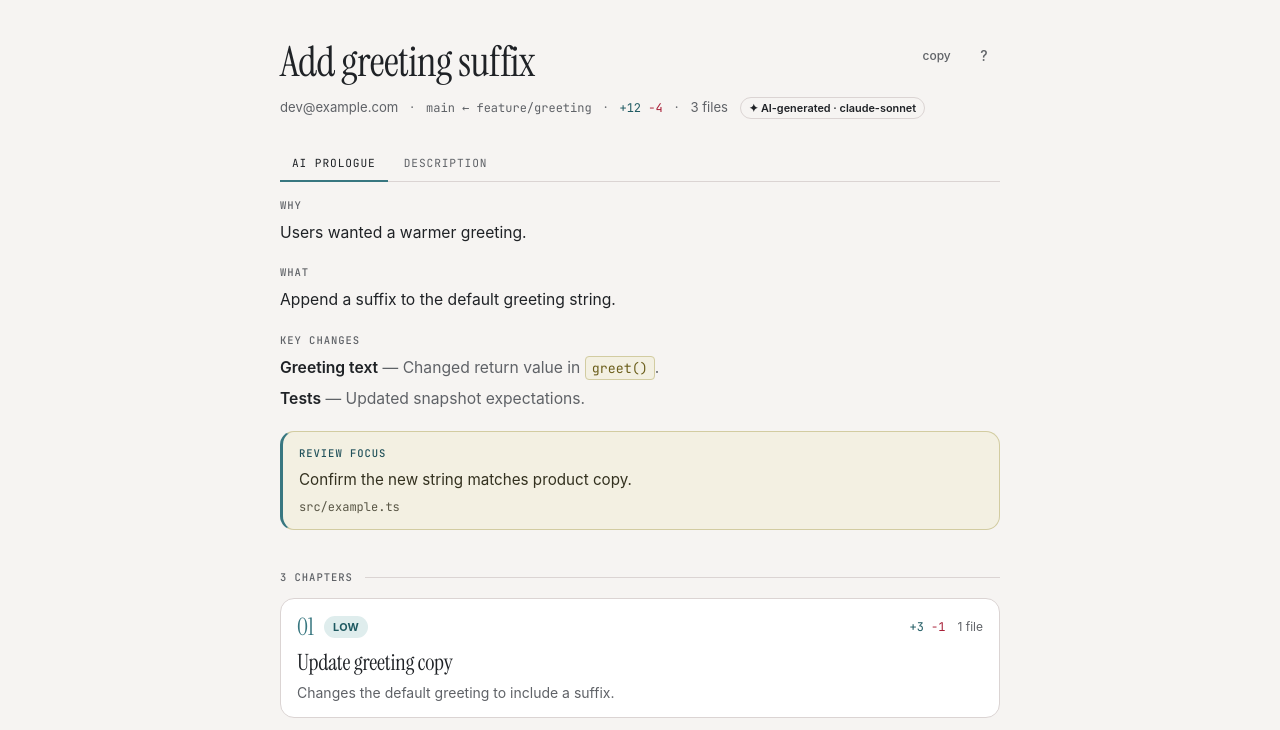
it: shortcuts dialog on overview does not list Next file
Click the button named "Keyboard shortcuts".
click(984, 56)  # box [968,40,1000,72]
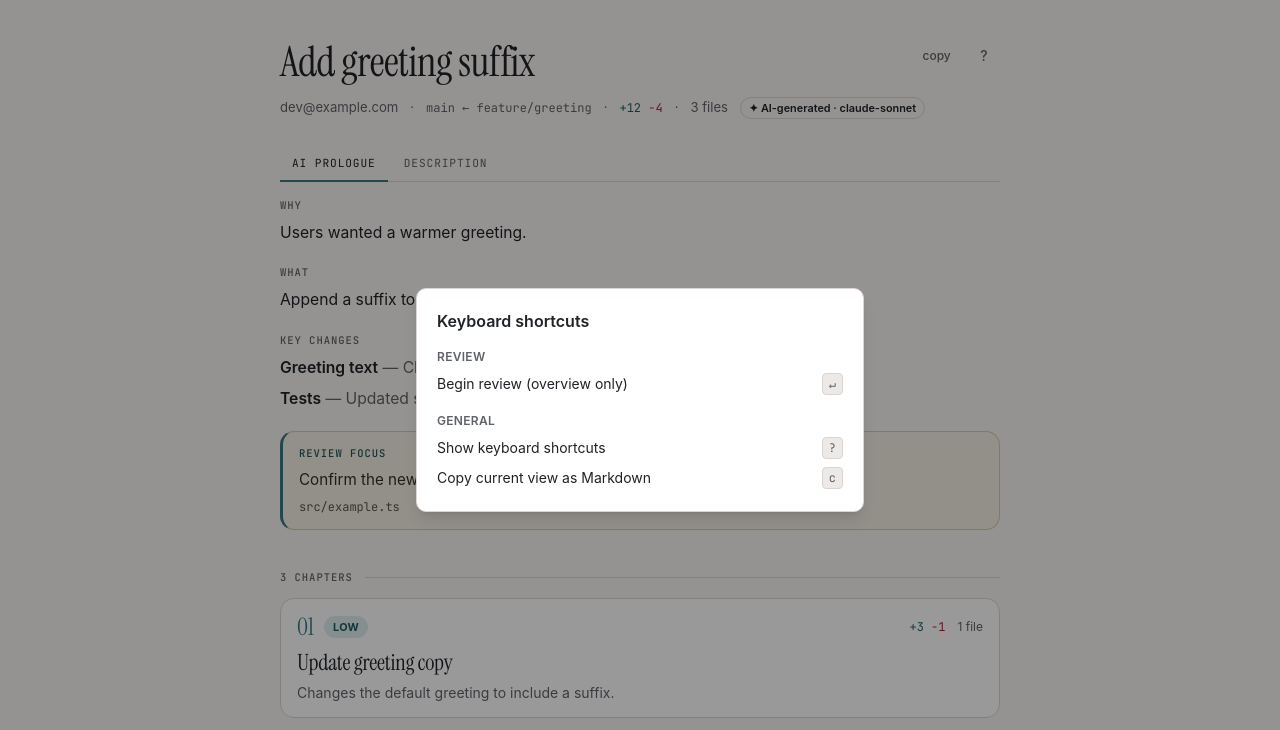
Result: the heading "Keyboard shortcuts" is shown at [437,311,589,331]
